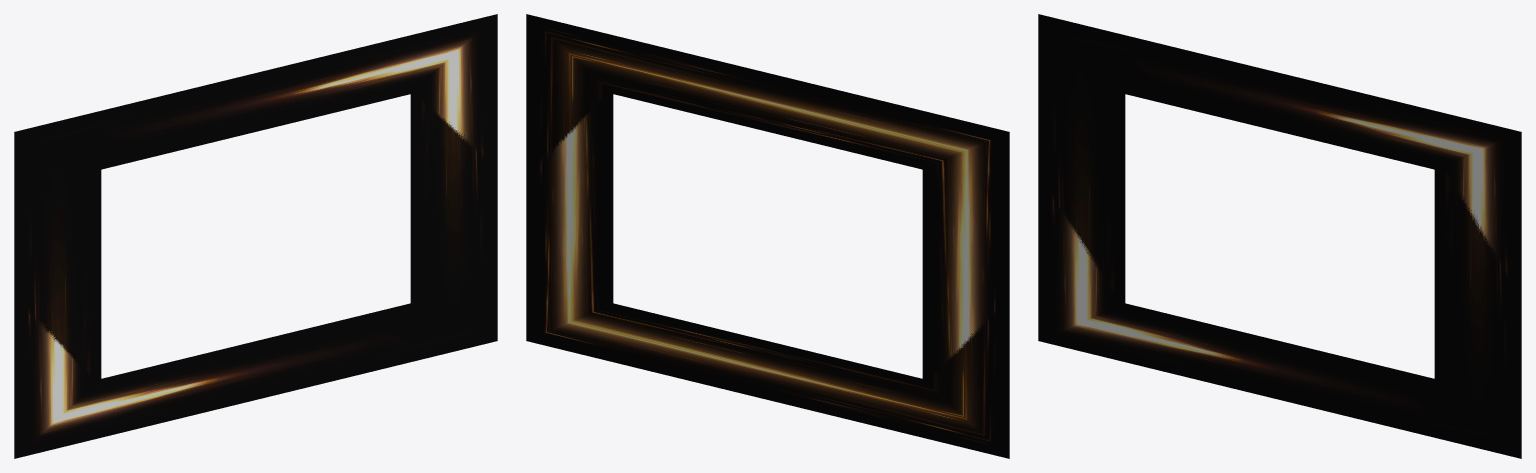
Rendered from HotTimeDlg.fbx.
3 renders of one model, left to right at view 1: azimuth 30°, elevation 25°; view 2: azimuth 150°, elevation 25°; view 3: azimuth 330°, elevation 25°, orthographic.
Visible parts, largest first — view 1: FX_Tube01, FX_Tube02; view 2: FX_Tube01, FX_Tube02; view 3: FX_Tube01, FX_Tube02.
Boxes of the visible parts, x1,y1,x2,y2 form: FX_Tube01: [14, 91, 497, 458]; FX_Tube02: [14, 14, 497, 382]; FX_Tube01: [526, 14, 1009, 381]; FX_Tube02: [526, 90, 1009, 458]; FX_Tube01: [1038, 90, 1521, 458]; FX_Tube02: [1038, 14, 1521, 383].
Size of the model in its own units: 754 by 488 by 0.000501.
Materials: 1 (1 with a texture image).
